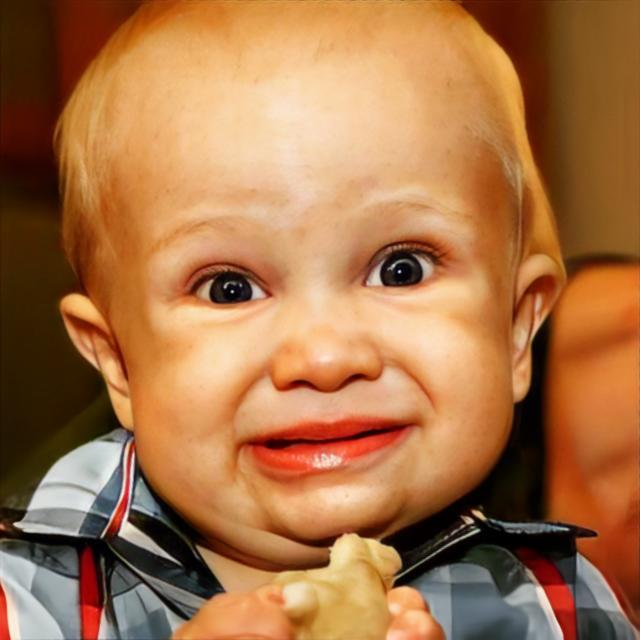fear: (123, 55, 516, 538)
